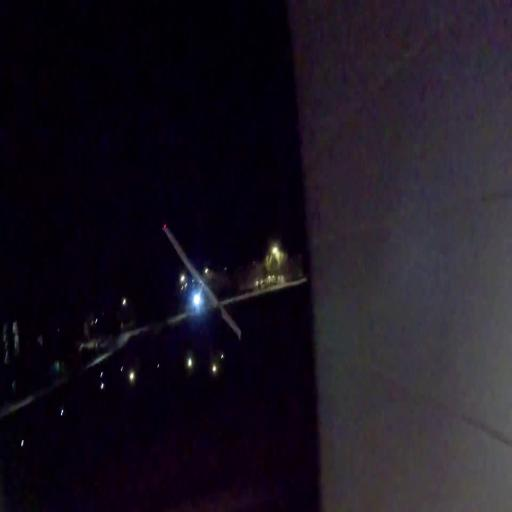uav: (160, 218, 244, 344)
